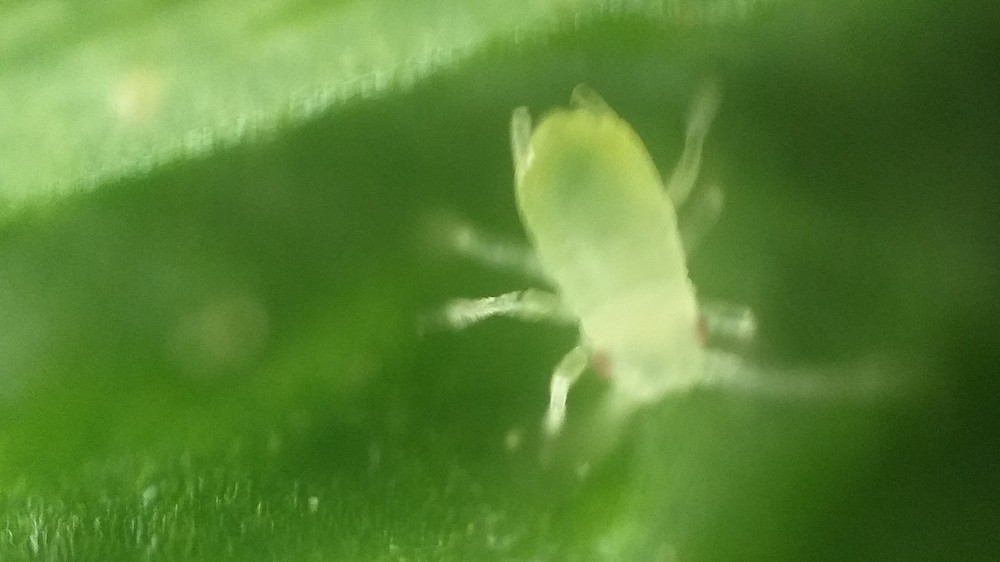Pulgon: (397, 85, 924, 492)
